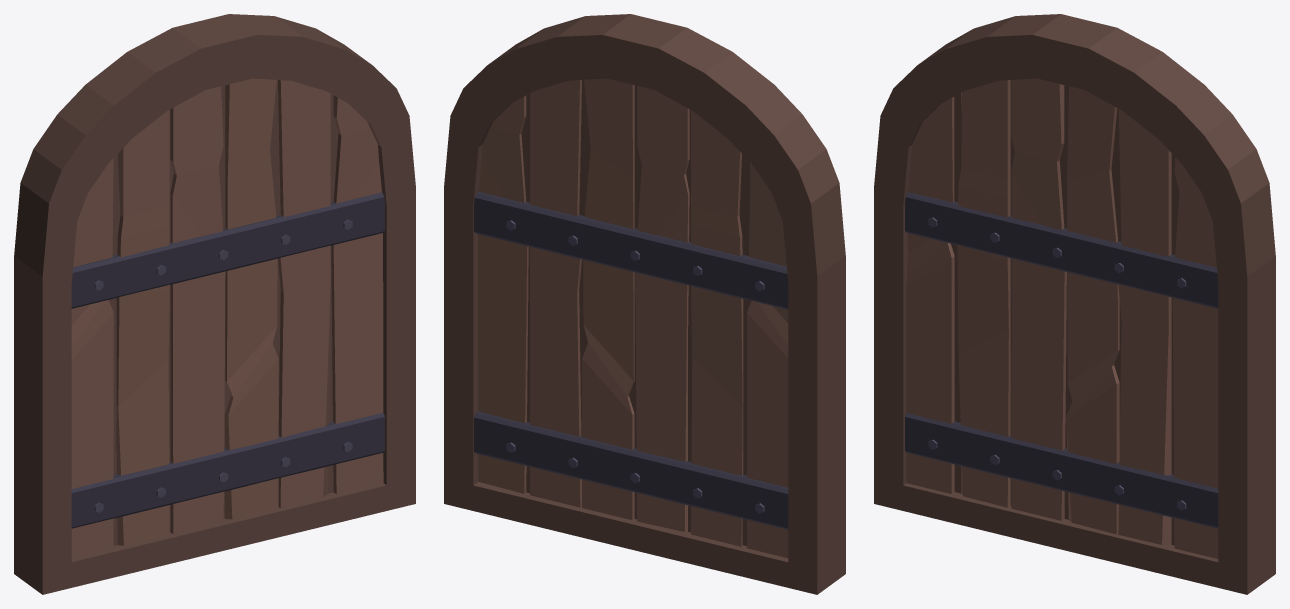
The model's file is dungeon_exit.glb.
3 renders of one model, left to right at view 1: azimuth 30°, elevation 25°; view 2: azimuth 150°, elevation 25°; view 3: azimuth 330°, elevation 25°, orthographic.
Parts seen in each view (by area): view 1: Arch_Door; view 2: Arch_Door; view 3: Arch_Door.
Part boxes in pixels (x1=…): Arch_Door: x1=14, y1=14, x2=415, y2=594; Arch_Door: x1=444, y1=14, x2=845, y2=594; Arch_Door: x1=874, y1=14, x2=1275, y2=594.
Size of the model in its own units: 2 by 2.6 by 0.27.
